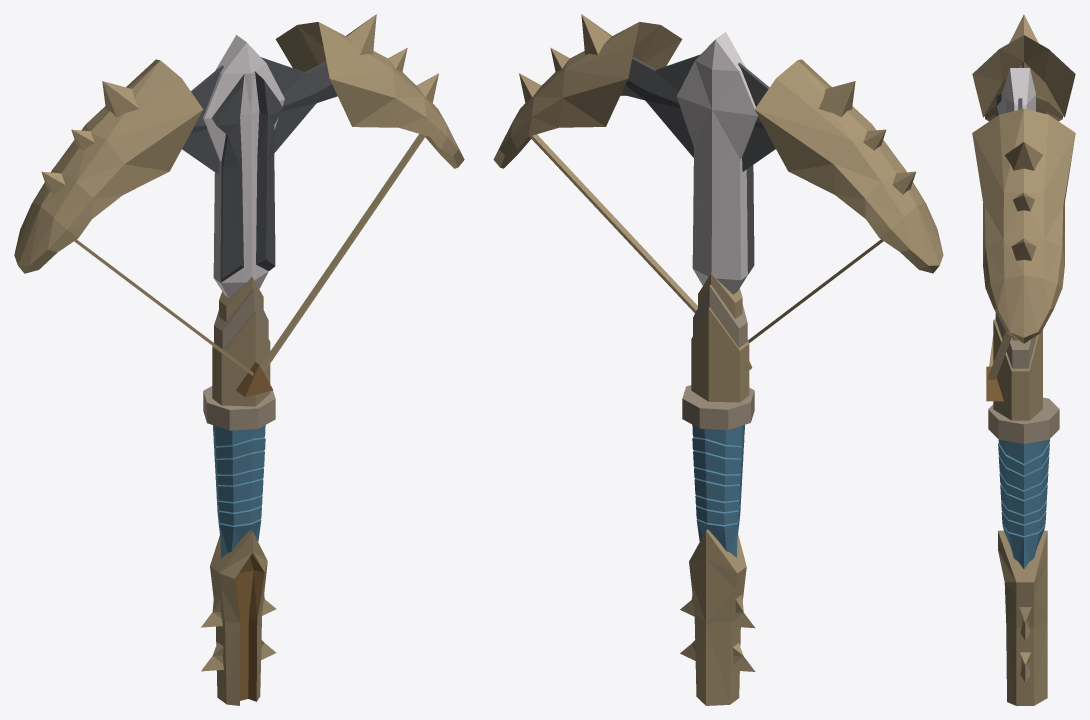
File: _crossbow_17.glb
3 renders of one model, left to right at view 1: azimuth 30°, elevation 25°; view 2: azimuth 150°, elevation 25°; view 3: azimuth 270°, elevation 25°, orthographic. The views are drawn at different scales.
Parts seen in each view (by area): view 1: crossbow_17; view 2: crossbow_17; view 3: crossbow_17.
Part boxes in pixels (<box>): crossbow_17: <box>14,14,464,705</box>; crossbow_17: <box>493,14,943,705</box>; crossbow_17: <box>972,14,1075,705</box>.
Size of the model in its own units: 20425 by 29096 by 4330.
1 material, 1 textured.
